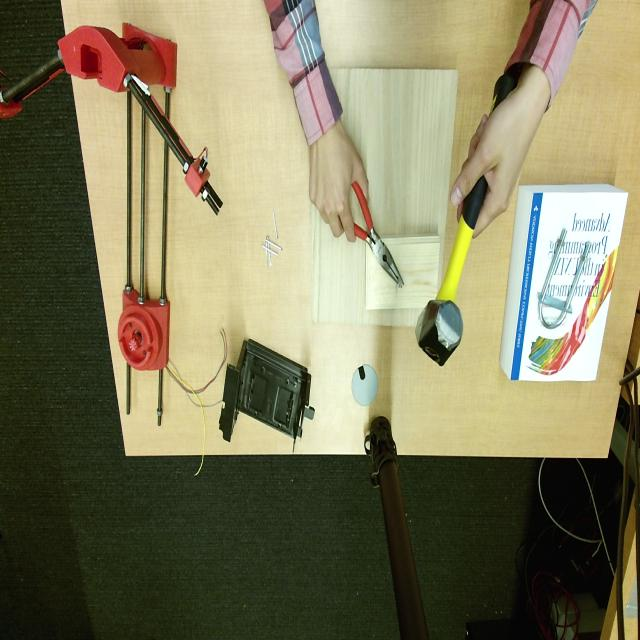hammer: (415, 176, 488, 367), (491, 73, 518, 110)
pliers: (352, 182, 404, 288)
